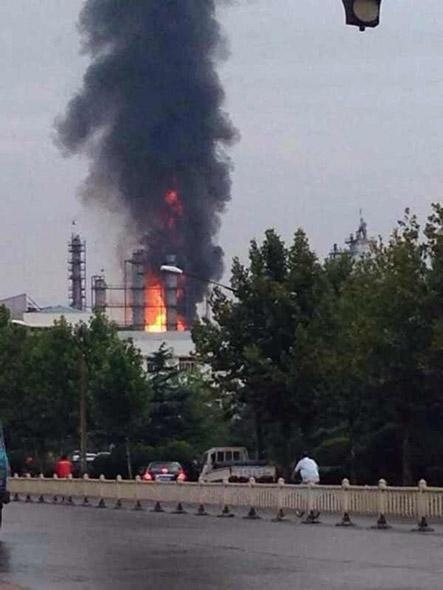fire: (140, 275, 179, 331)
